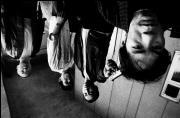gun: (108, 64, 121, 81)
